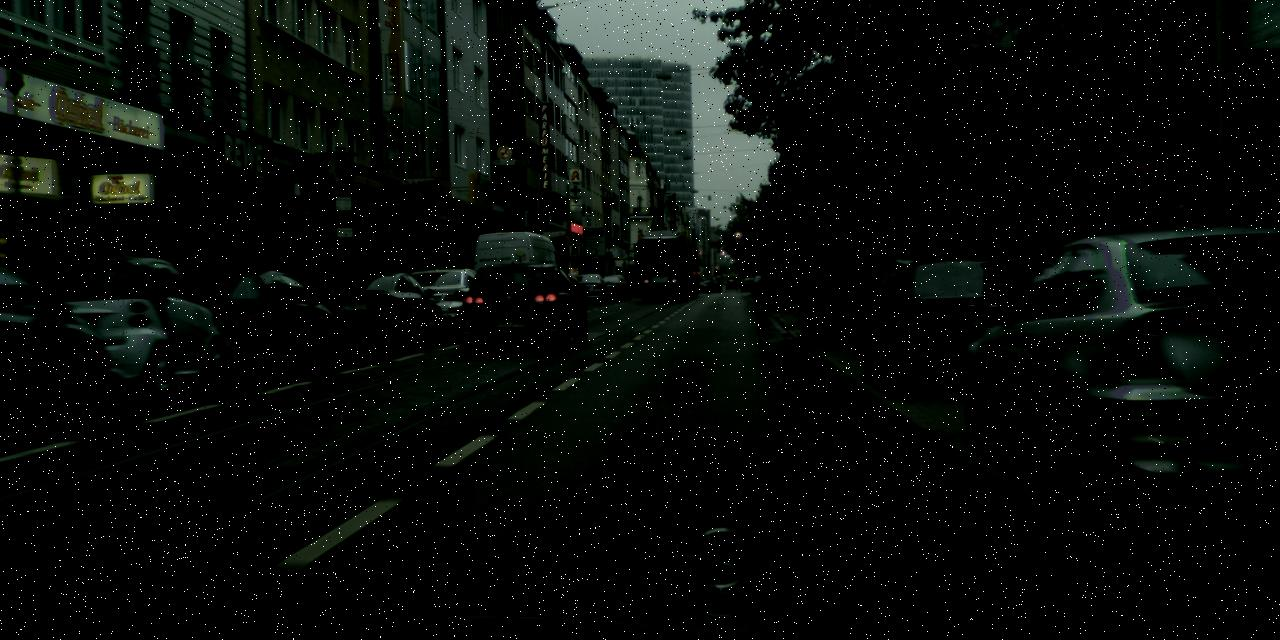ped: (1154, 199, 1208, 332)
